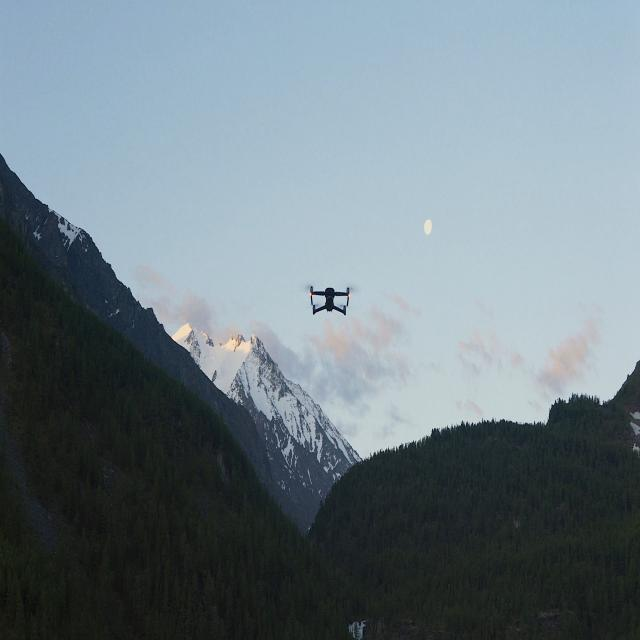Drone: (303, 284, 349, 317)
